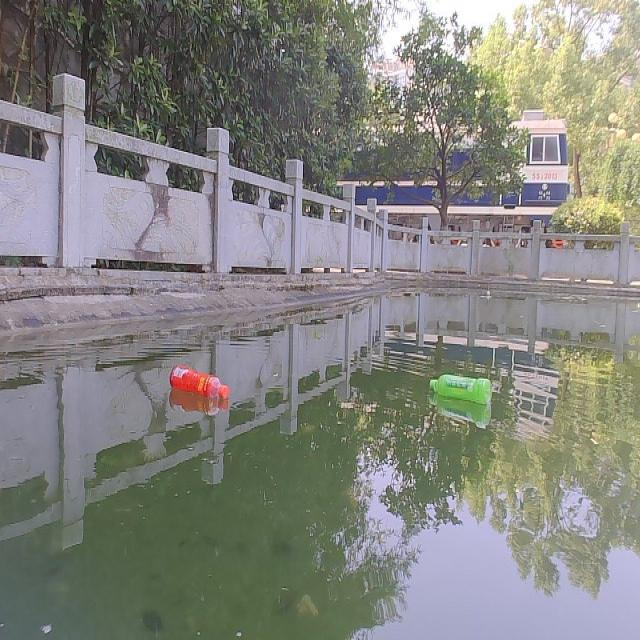bottle: (169, 362, 230, 398), (427, 372, 493, 404)
